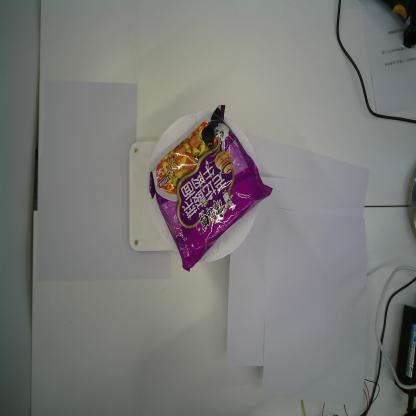Instant Noodles: (148, 104, 274, 272)
